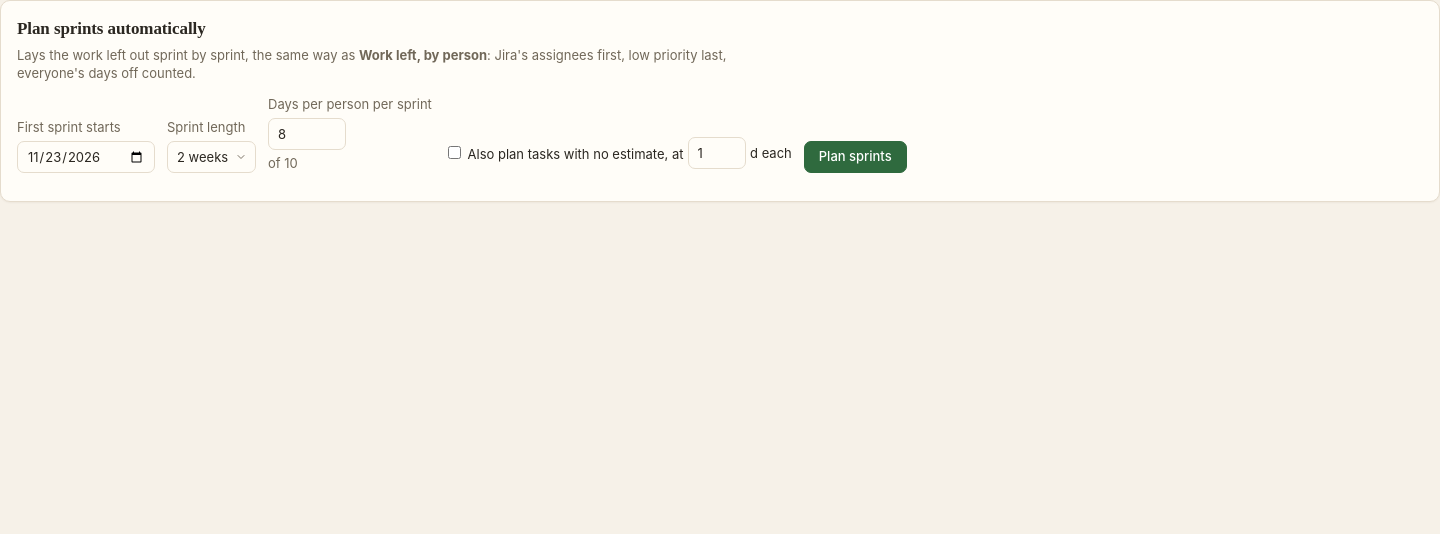
AutoSprintPlanner › plans the sprints on demand, and says how many and when they end
Expected: the date field labelled "First sprint starts" holds "2026-11-23", top-left (17, 141), bottom-right (155, 173)
Select "1 week" in the dropdown labelled "Sprint length" at (212, 157), box top-left (167, 141), bottom-right (256, 173)
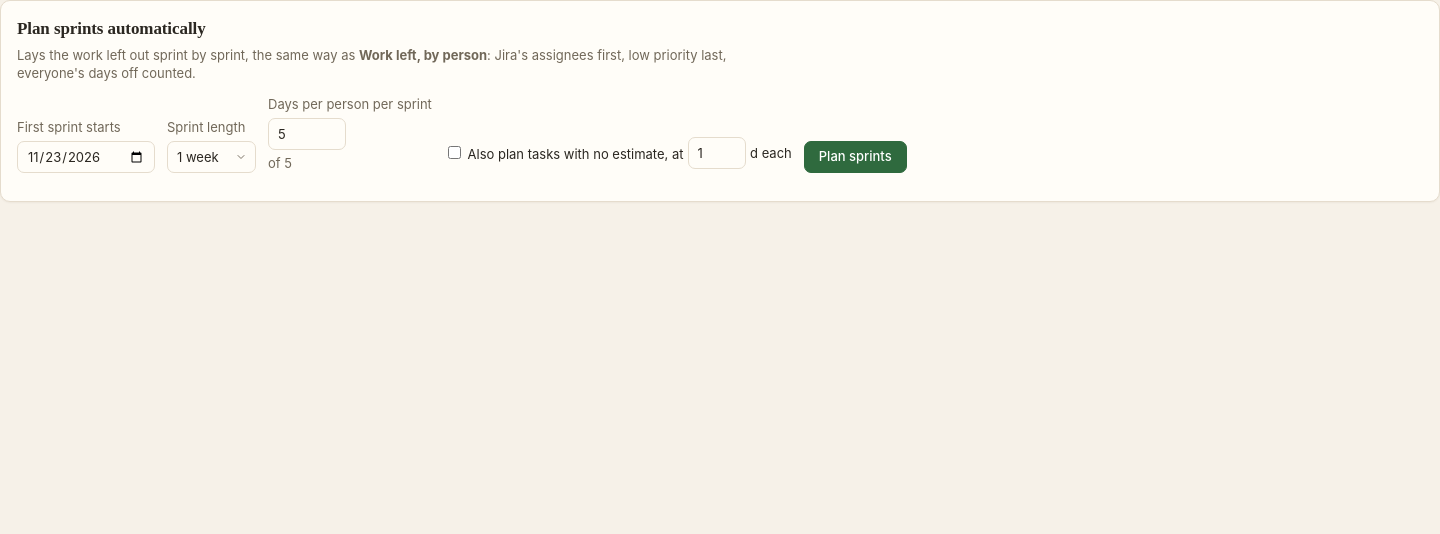
Replace the text in the number field labelled "Days per person per sprint of 5" with "2" at (307, 134), box top-left (268, 118), bottom-right (346, 150)
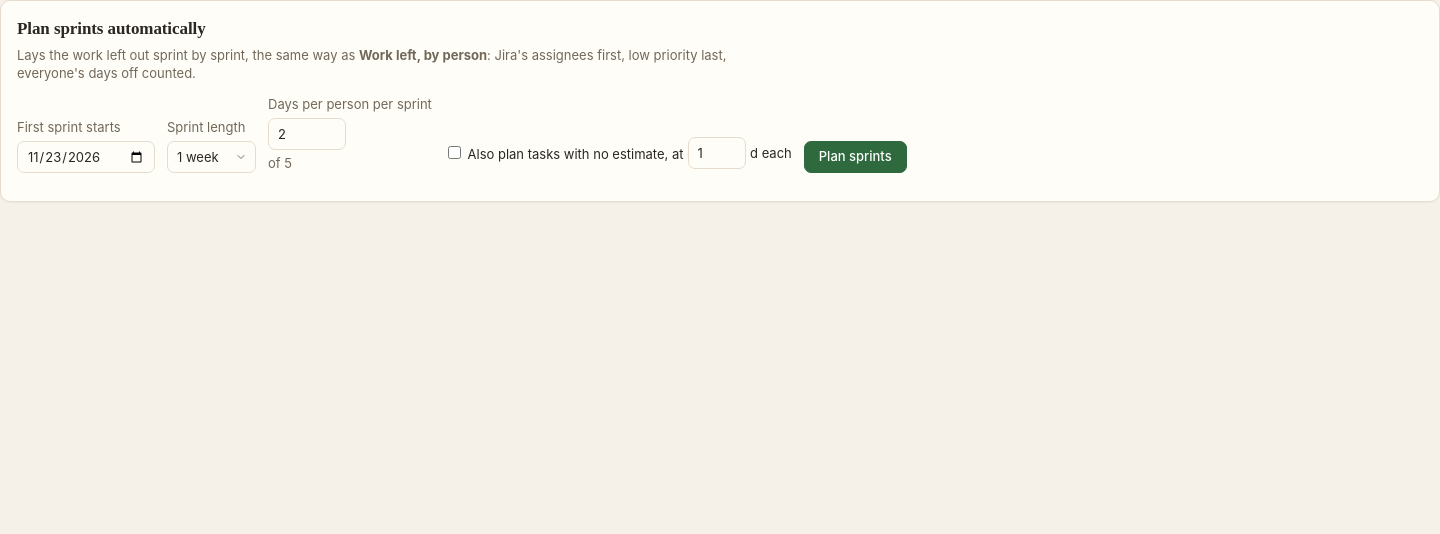
Click the button "Plan sprints" at (855, 157), box top-left (804, 141), bottom-right (907, 173)
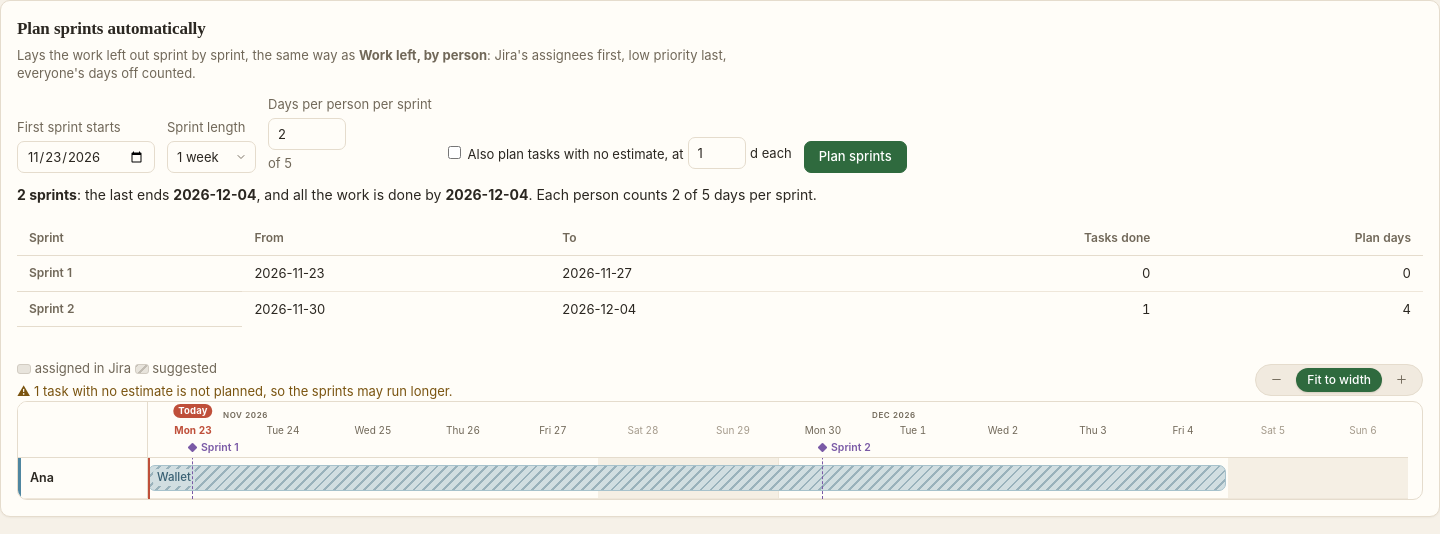
Now the message shows "2 sprints: the last ends 2026-12-04, and all the work is done by 2026-12-04. Each person counts 2 of 5 days per sprint.", box top-left (17, 186), bottom-right (817, 203)
Now the text "1 task with no estimate is not planned, so the sprints may run longer." is shown, box top-left (34, 383), bottom-right (453, 399)
Now the element titled "Wallet" is shown, box top-left (148, 465), bottom-right (1226, 491)
